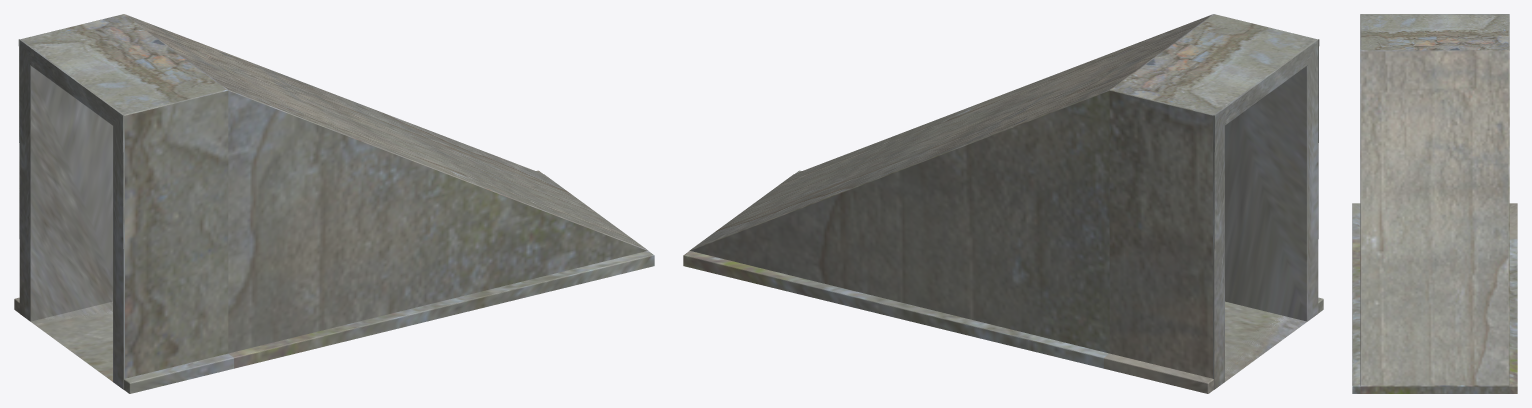
Rendered from bunker_entrance.glb.
3 views of the same model, side by side, from view 1: azimuth 30°, elevation 25°; view 2: azimuth 150°, elevation 25°; view 3: azimuth 270°, elevation 25° (orthographic). The views are drawn at different scales.
Parts seen in each view (by area): view 1: Base; view 2: Base; view 3: Base.
Part boxes in pixels (x1,y1,x2,y2): Base: (14,14,654,393); Base: (683,14,1323,393); Base: (1352,14,1517,393).
Size of the model in its own units: 6.41 by 3.2 by 2.45.
6 materials, 2 textured.
